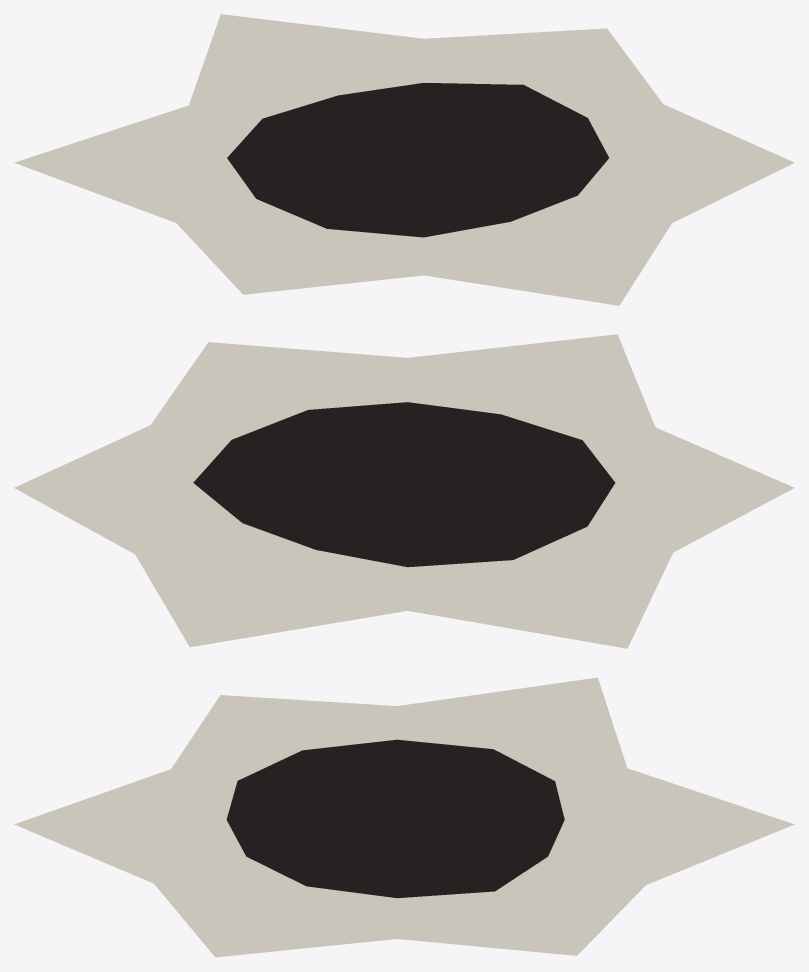
The model's file is hole_wall_02.obj.
3 renders of one model, top to bottom at view 1: azimuth 30°, elevation 25°; view 2: azimuth 150°, elevation 25°; view 3: azimuth 270°, elevation 25°, orthographic. The views are drawn at different scales.
Bounding box in the file's own units: 0.052 × 0.0004 × 0.0613.
